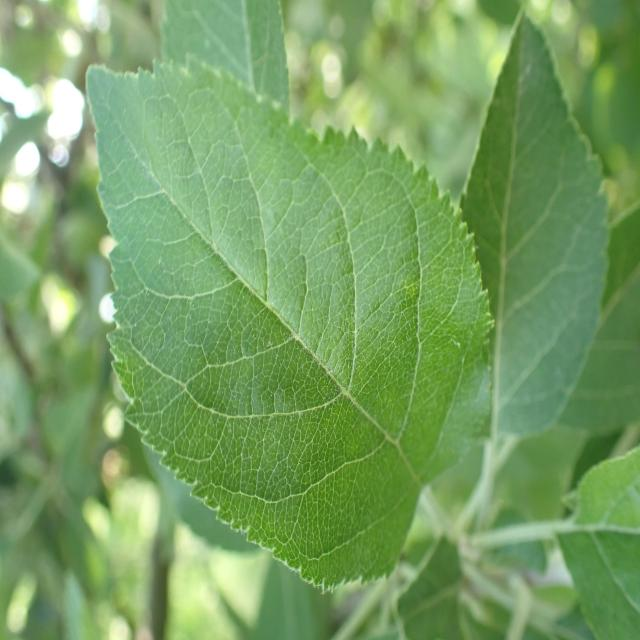healthy: (85, 56, 494, 592), (459, 4, 608, 437), (559, 445, 640, 640), (160, 0, 290, 117)
